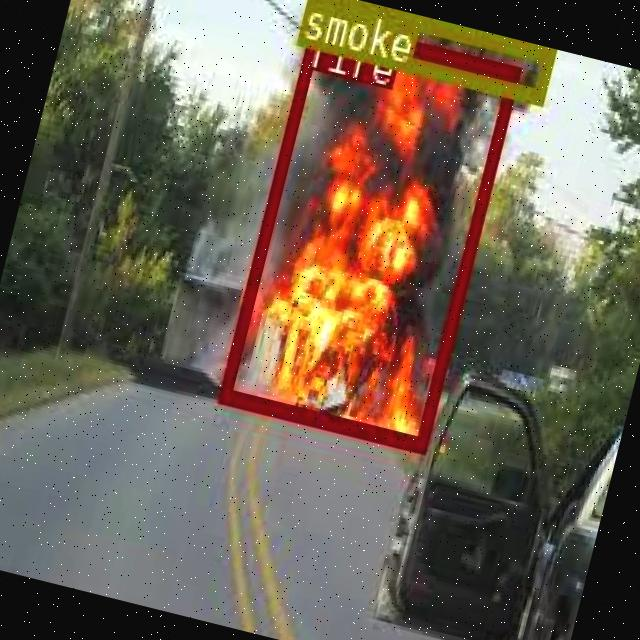fire: (217, 13, 519, 450)
smoke: (297, 0, 554, 100)
